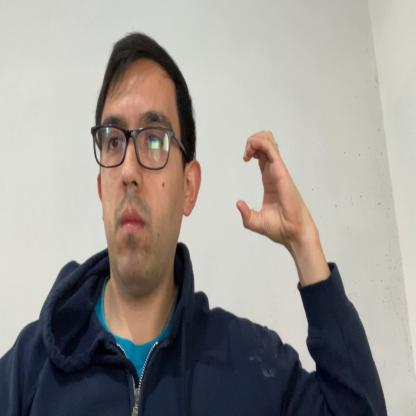C: (235, 129, 299, 241)
